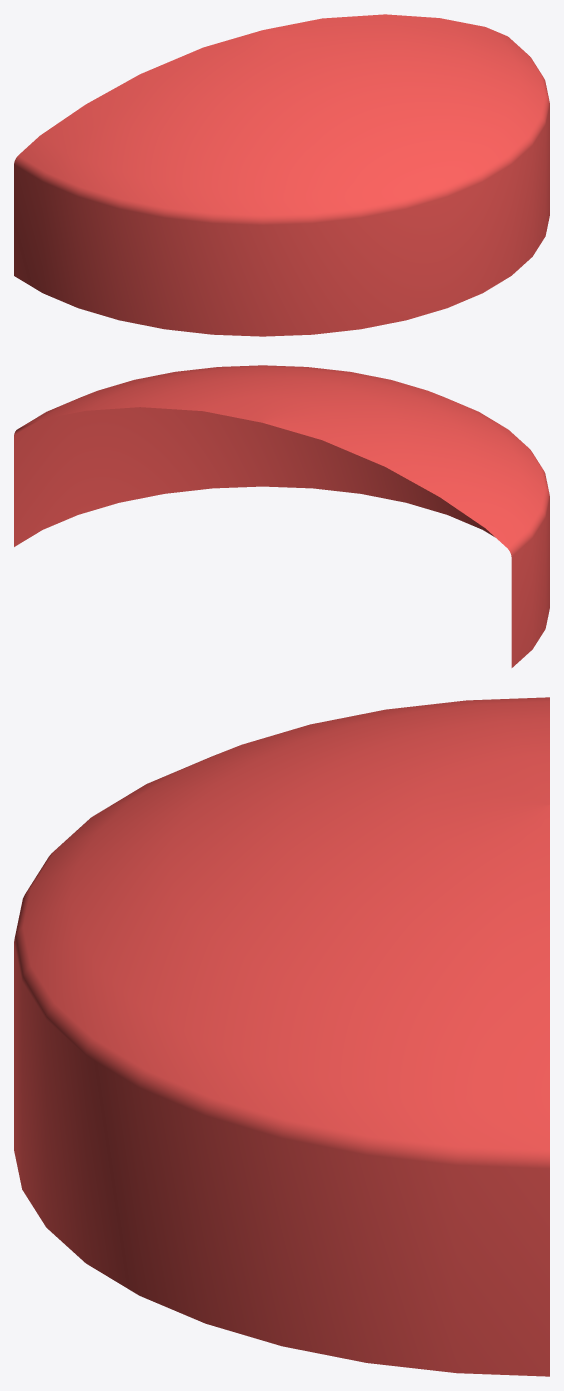
Rendered from object_B3_Awning.glb.
The picture shows the model from 3 angles, top to bottom: view 1: azimuth 30°, elevation 25°; view 2: azimuth 150°, elevation 25°; view 3: azimuth 270°, elevation 25°; orthographic projection. The views are drawn at different scales.
Visible parts, largest first — view 1: B3 Awning; view 2: B3 Awning; view 3: B3 Awning.
Boxes of the visible parts, x1=… form: B3 Awning: x1=14, y1=14, x2=549, y2=336; B3 Awning: x1=14, y1=365, x2=549, y2=667; B3 Awning: x1=14, y1=697, x2=549, y2=1376.
Size of the model in its own units: 1.79 by 0.6349 by 0.8928.
